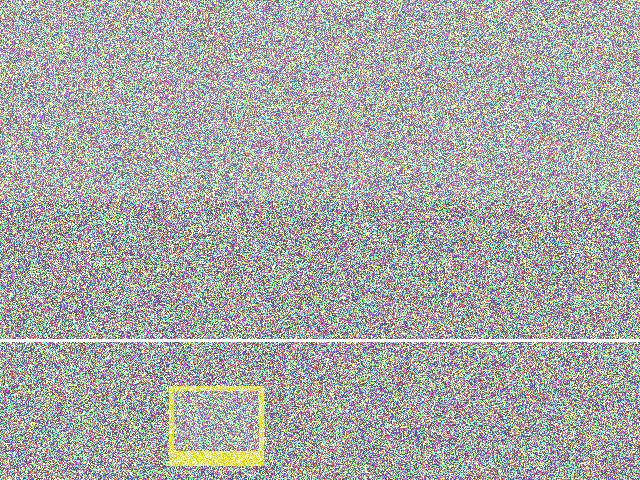truck: (0, 178, 160, 300)
